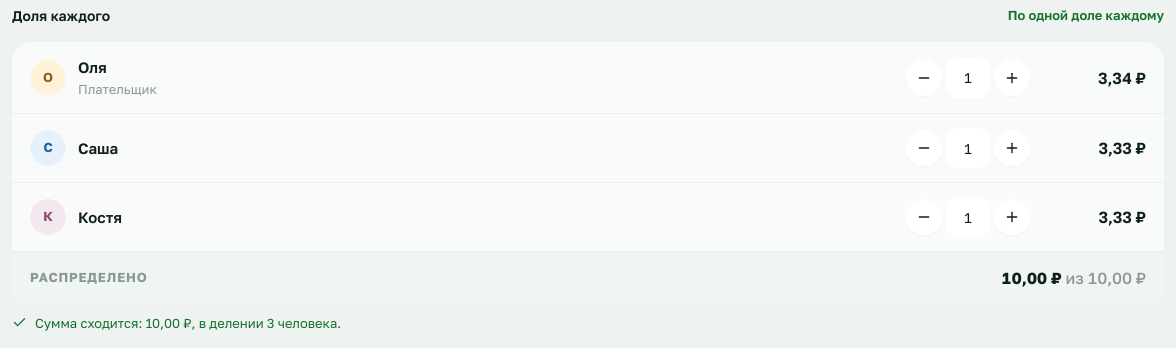
SplitEditor — other modes › steps share counts with the plus and minus buttons
This screenshot has width=1176, height=348.
Click the button named "Добавить долю: Оля": (1012, 78) [994,60,1030,96]
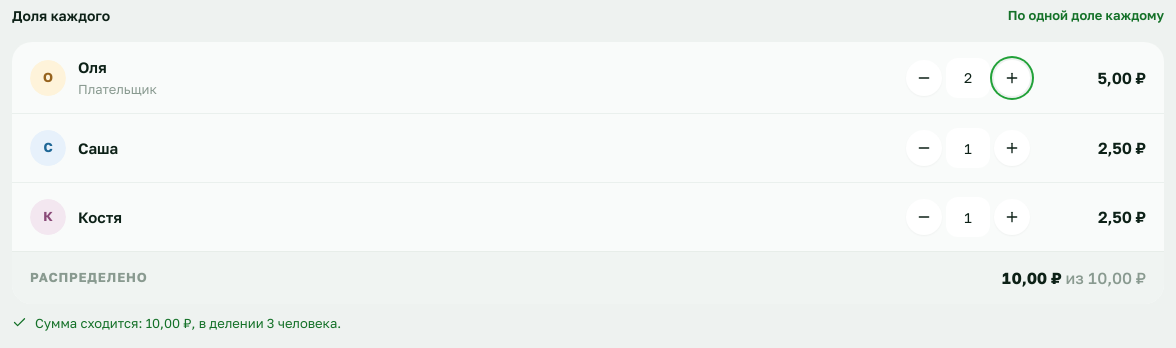
expect the field named "Доли: Оля" holds "2": met, box [946,58,990,98]
expect the text "5,00 ₽" is shown: met, box [1097,68,1146,88]
expect the text "2,50 ₽" in the row of "Саша" is shown: met, box [1098,138,1146,158]
